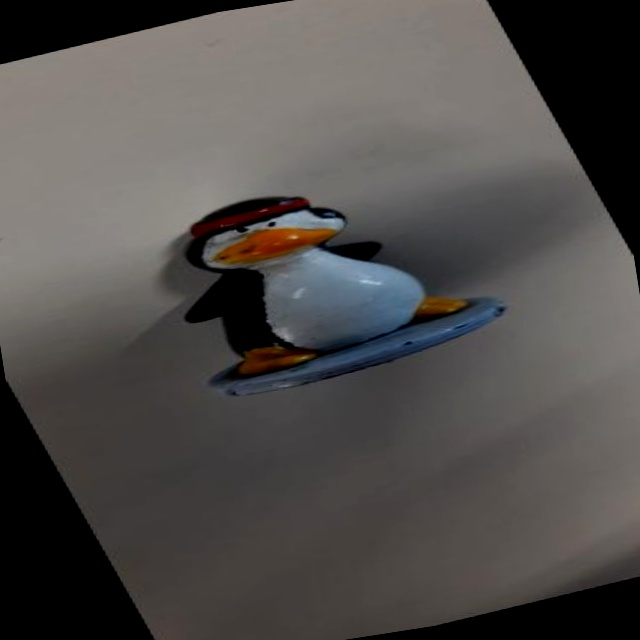Penguin: (105, 141, 532, 423)
